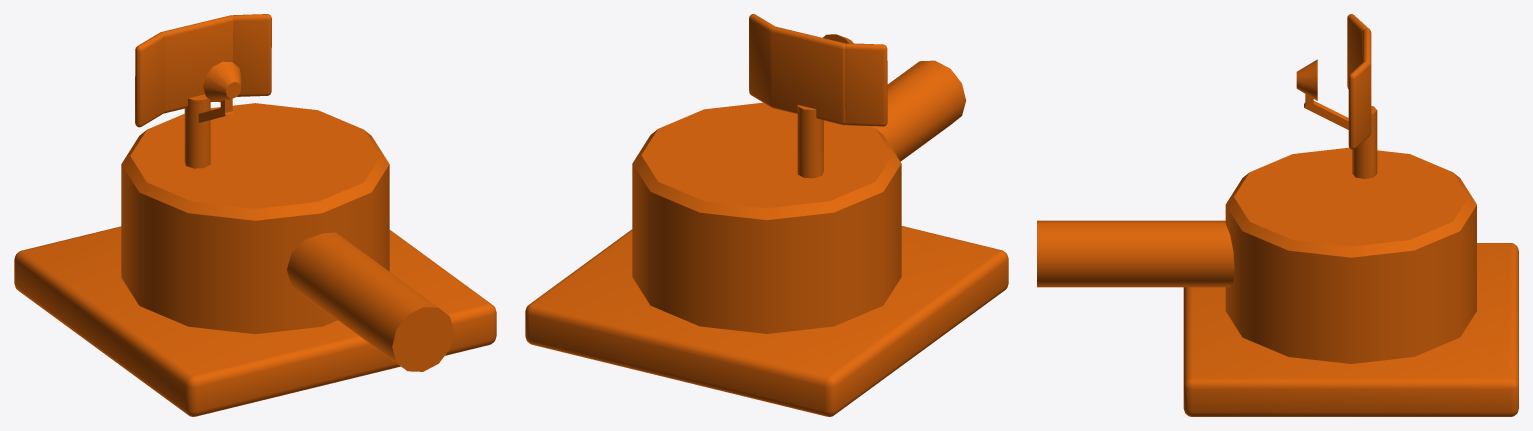
The model's file is Battery.FBX.
3 views of the same model, side by side, from view 1: azimuth 30°, elevation 25°; view 2: azimuth 150°, elevation 25°; view 3: azimuth 270°, elevation 25° (orthographic). The views are drawn at different scales.
Parts seen in each view (by area): view 1: ChamferCyl001, ChamferBox001, Cylinder001, ChamferBox003, ChamferBox004, ChamferBox002, Cylinder002, Cone001; view 2: ChamferCyl001, ChamferBox001, ChamferBox003, Cylinder001, ChamferBox002, ChamferBox004, Cylinder002; view 3: ChamferCyl001, ChamferBox001, Cylinder001, ChamferBox004, Cylinder002, ChamferBox002, Cone001, Box001.
Part boxes in pixels (x1,y1,x2,y2): ChamferCyl001: (121,103,389,334); ChamferBox001: (14,226,496,416); Cylinder001: (287,232,453,371); ChamferBox003: (159,15,233,113); ChamferBox004: (231,14,271,96); ChamferBox002: (135,33,164,127); Cylinder002: (184,94,210,168); Cone001: (203,61,241,102); ChamferCyl001: (632,102,901,333); ChamferBox001: (525,226,1008,416); ChamferBox003: (771,26,845,125); Cylinder001: (870,60,965,161); ChamferBox002: (845,43,887,126); ChamferBox004: (749,14,774,107); Cylinder002: (797,105,823,178); ChamferCyl001: (1225,147,1476,363); ChamferBox001: (1183,243,1518,416); Cylinder001: (1037,220,1234,287); ChamferBox004: (1348,60,1370,149); Cylinder002: (1352,106,1377,178); ChamferBox002: (1347,14,1368,88); Cone001: (1296,59,1317,100); Box001: (1304,101,1348,129).
Bounding box in the file's own units: 80 × 74.14 × 115.
